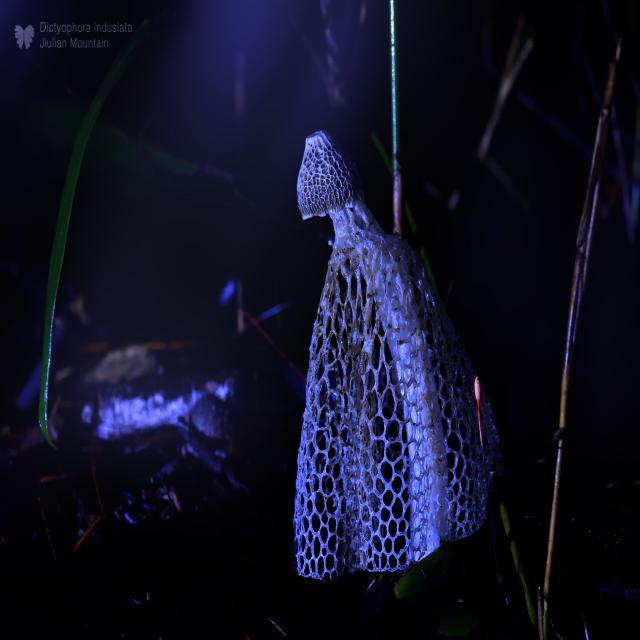Dictyophora indusiate: (295, 130, 488, 575)
